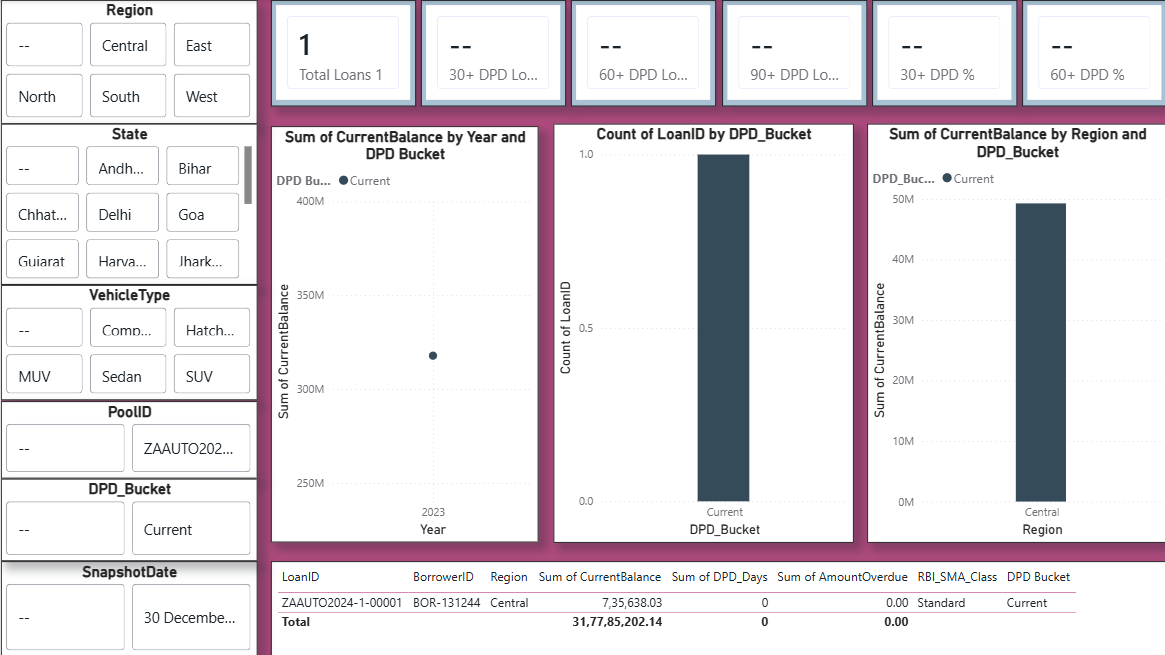

The dashboard page shown, as its layout file describes it:
{"tool":"powerbi","page":{"name":"DPD Analysis","canvas":[1280,720],"ordinal":1},"visuals":[{"type":"cardVisual","fields":{"Data":["DPDSnapshot.Total Loans 1"]},"box":[296.4,0,159.2,116.6],"z":3000},{"type":"cardVisual","fields":{"Data":["DPDSnapshot.30+ DPD Loans"]},"box":[461.3,0,159.2,116.6],"z":4000},{"type":"cardVisual","fields":{"Data":["DPDSnapshot.60+ DPD Loans"]},"box":[626.3,0,159.2,116.6],"z":5000},{"type":"cardVisual","fields":{"Data":["DPDSnapshot.90+ DPD Loans"]},"box":[791.2,0,159.2,116.6],"z":6000},{"type":"cardVisual","fields":{"Data":["DPDSnapshot.30+ DPD %"]},"box":[956.2,0,159.2,116.6],"z":7000},{"type":"cardVisual","fields":{"Data":["DPDSnapshot.60+ DPD %"]},"box":[1120.8,0,159.2,116.6],"z":8000},{"type":"columnChart","fields":{"Category":["DPDSnapshot.DPD_Bucket"],"Y":["CountNonNull(DPDSnapshot.LoanID)"]},"box":[606.5,135.8,329.3,459.7],"z":9000},{"type":"clusteredColumnChart","fields":{"Category":["AutoLoan.Region"],"Y":["Sum(AutoLoan.CurrentBalance)"],"Series":["DPDSnapshot.DPD_Bucket"]},"box":[950.9,135.8,329.3,459.7],"z":10000},{"type":"lineChart","fields":{"Category":["DPDSnapshot.SnapshotDate.Variation.Date Hierarchy.Year","DPDSnapshot.SnapshotDate.Variation.Date Hierarchy.Quarter","DPDSnapshot.SnapshotDate.Variation.Date Hierarchy.Month","DPDSnapshot.SnapshotDate.Variation.Date Hierarchy.Day"],"Y":["Sum(AutoLoan.CurrentBalance)"],"Series":["DPDSnapshot.DPD Bucket"]},"box":[296.4,138.6,293.7,456.9],"z":11000},{"type":"tableEx","fields":{"Values":["DPDSnapshot.LoanID","AutoLoan.BorrowerID","AutoLoan.Region","Sum(AutoLoan.CurrentBalance)","Sum(DPDSnapshot.DPD_Days)","Sum(DPDSnapshot.AmountOverdue)","DPDSnapshot.RBI_SMA_Class","DPDSnapshot.DPD Bucket"]},"box":[296.4,616.1,983.9,104.3],"z":12000},{"type":"advancedSlicerVisual","fields":{"Values":["DPDSnapshot.SnapshotDate"]},"box":[0,615.7,281.3,104.3],"z":13000},{"type":"advancedSlicerVisual","fields":{"Values":["AutoLoan.Region"]},"box":[0,0,281.3,135.8],"z":14000},{"type":"advancedSlicerVisual","fields":{"Values":["AutoLoan.State"]},"box":[0,136.1,281.3,177],"z":15000},{"type":"advancedSlicerVisual","fields":{"Values":["AutoLoan.VehicleType"]},"box":[0,313.4,281.3,126.2],"z":16000},{"type":"advancedSlicerVisual","fields":{"Values":["AutoLoan.PoolID"]},"box":[0,439.9,281.3,85.1],"z":17000},{"type":"advancedSlicerVisual","fields":{"Values":["DPDSnapshot.DPD_Bucket"]},"box":[0,525.3,281.3,90.6],"z":18000}]}

Visuals, with their boxes in screenshot pixels (x1, y1, x2, y2), scaled from the page's 1280x720 canvas onto the 1165x655 screenshot:
cardVisual - DPDSnapshot.Total Loans 1: box=[270, 0, 415, 106]
cardVisual - DPDSnapshot.30+ DPD Loans: box=[420, 0, 565, 106]
cardVisual - DPDSnapshot.60+ DPD Loans: box=[570, 0, 715, 106]
cardVisual - DPDSnapshot.90+ DPD Loans: box=[720, 0, 865, 106]
cardVisual - DPDSnapshot.30+ DPD %: box=[870, 0, 1015, 106]
cardVisual - DPDSnapshot.60+ DPD %: box=[1020, 0, 1164, 106]
columnChart - DPDSnapshot.DPD_Bucket x CountNonNull(DPDSnapshot.LoanID): box=[552, 124, 852, 542]
clusteredColumnChart - AutoLoan.Region x Sum(AutoLoan.CurrentBalance): box=[865, 124, 1164, 542]
lineChart - DPDSnapshot.SnapshotDate.Variation.Date Hierarchy.Year x DPDSnapshot.SnapshotDate.Variation.Date Hierarchy.Quarter: box=[270, 126, 537, 542]
tableEx - DPDSnapshot.LoanID x AutoLoan.BorrowerID: box=[270, 560, 1164, 654]
advancedSlicerVisual - DPDSnapshot.SnapshotDate: box=[0, 560, 256, 654]
advancedSlicerVisual - AutoLoan.Region: box=[0, 0, 256, 124]
advancedSlicerVisual - AutoLoan.State: box=[0, 124, 256, 285]
advancedSlicerVisual - AutoLoan.VehicleType: box=[0, 285, 256, 400]
advancedSlicerVisual - AutoLoan.PoolID: box=[0, 400, 256, 478]
advancedSlicerVisual - DPDSnapshot.DPD_Bucket: box=[0, 478, 256, 560]
